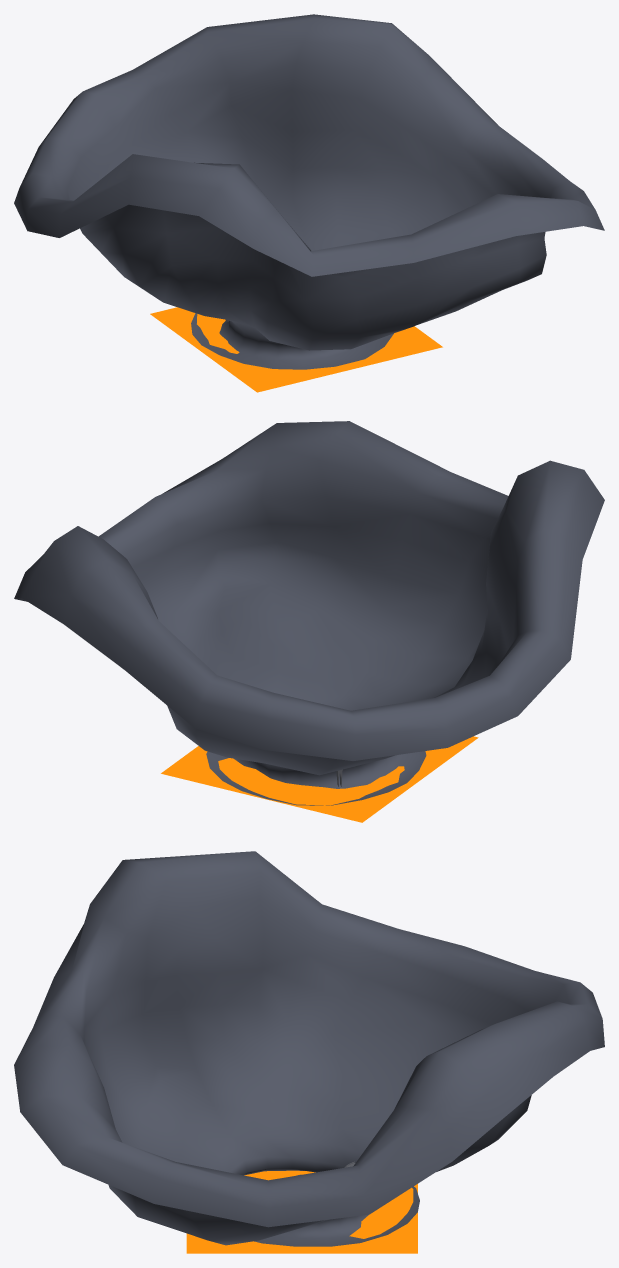
File: Arena_Base.fbx
3 renders of one model, top to bottom at view 1: azimuth 30°, elevation 25°; view 2: azimuth 150°, elevation 25°; view 3: azimuth 270°, elevation 25°, orthographic. The views are drawn at different scales.
Parts seen in each view (by area): view 1: Arena_Wall, magma; view 2: Arena_Wall, magma; view 3: Arena_Wall, magma.
Boxes of the visible parts, <box> form: Arena_Wall: <box>14,14,604,369</box>; magma: <box>150,307,442,392</box>; Arena_Wall: <box>14,421,604,805</box>; magma: <box>161,736,478,822</box>; Arena_Wall: <box>14,851,604,1246</box>; magma: <box>186,1170,417,1253</box>.
Size of the model in its own units: 2340 by 1200 by 2326.
